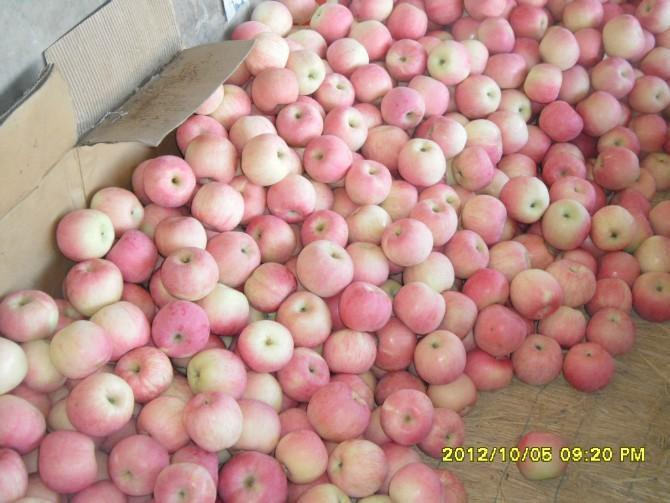apple: (69, 371, 133, 436), (50, 318, 114, 383), (133, 153, 198, 210), (115, 344, 175, 404), (181, 389, 241, 449), (307, 382, 368, 441), (108, 434, 164, 496), (40, 430, 96, 492), (378, 387, 434, 446), (162, 246, 220, 302), (151, 302, 209, 358), (221, 453, 288, 501), (136, 394, 194, 449), (295, 241, 354, 295), (328, 439, 385, 494), (65, 259, 125, 311), (278, 291, 331, 349), (413, 331, 467, 386), (589, 203, 648, 253), (88, 186, 146, 236), (513, 331, 564, 387), (56, 209, 112, 260), (91, 300, 150, 348), (2, 291, 61, 339), (237, 324, 296, 372), (187, 351, 246, 399), (192, 181, 244, 234), (208, 231, 260, 284), (239, 133, 290, 187), (564, 342, 616, 393), (277, 429, 328, 481), (509, 268, 562, 318), (233, 399, 282, 453), (341, 281, 392, 332), (394, 281, 445, 332), (541, 199, 590, 250), (381, 218, 433, 266), (185, 134, 237, 182), (323, 327, 376, 374), (243, 262, 294, 309), (155, 463, 216, 502), (517, 429, 565, 477), (251, 67, 299, 115), (439, 230, 490, 275), (276, 101, 323, 149), (304, 136, 352, 182), (344, 160, 392, 206), (461, 196, 509, 242), (501, 177, 549, 223), (399, 138, 447, 184), (587, 308, 636, 353), (387, 461, 440, 501), (546, 261, 594, 305), (379, 85, 425, 130), (455, 74, 501, 119), (324, 105, 368, 152), (462, 265, 509, 308), (578, 91, 620, 135), (428, 40, 470, 84), (463, 117, 501, 165), (408, 73, 449, 117), (594, 147, 638, 188), (452, 148, 494, 190), (385, 39, 426, 81), (285, 49, 323, 94), (587, 276, 632, 312), (541, 150, 586, 186), (248, 33, 287, 72), (385, 3, 426, 40), (540, 101, 578, 139), (523, 63, 561, 101), (352, 22, 391, 59), (487, 52, 526, 89), (351, 65, 390, 102), (476, 17, 515, 54), (327, 38, 366, 75), (510, 6, 549, 43), (310, 3, 349, 39), (315, 74, 353, 107)
